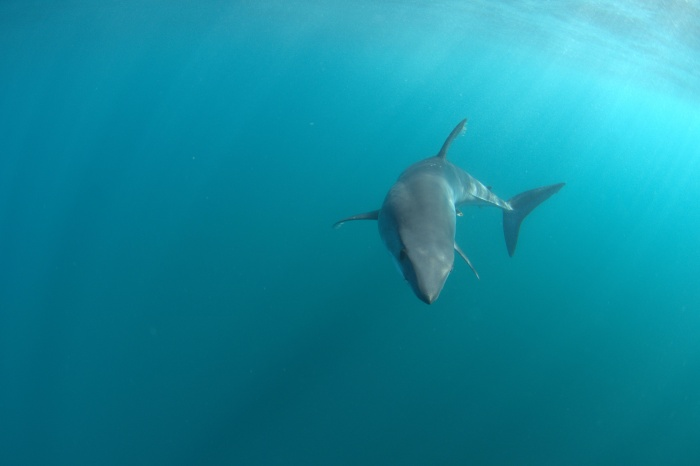Mako: (326, 112, 573, 308)
